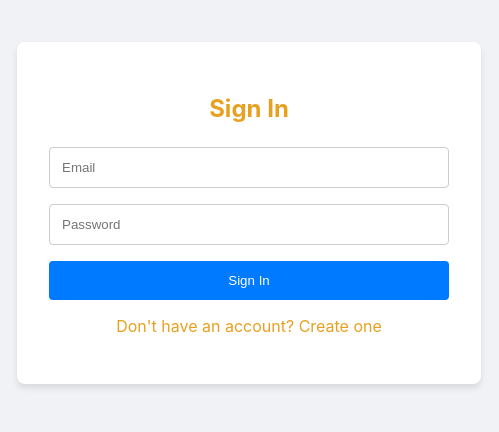
Test: Login Component › shows error message on Sign Up failure
This screenshot has width=499, height=432.
Click the button with test id "switch-to-signup" at (249, 326), box [116, 316, 382, 336]
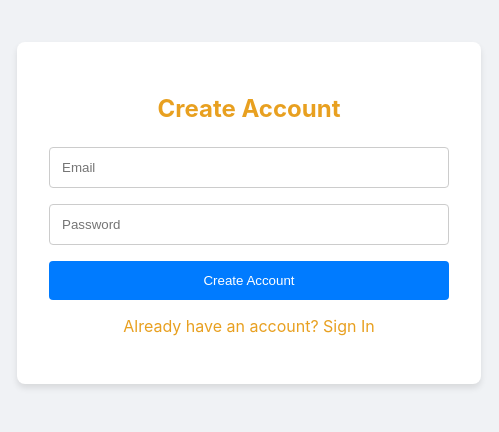
Type "new@example.com" into the field labelled "Email" at (249, 168), box [49, 147, 449, 188]
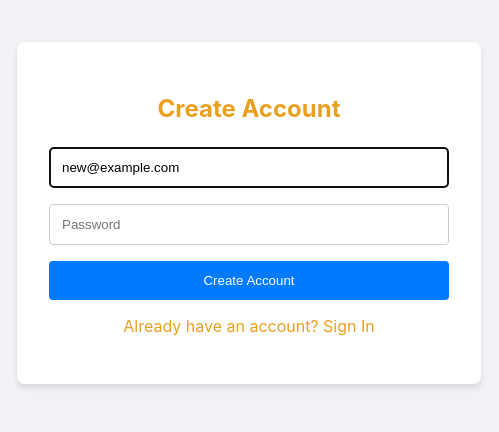
Type "newpassword" into the password field labelled "Password" at (249, 224), box [49, 204, 449, 245]
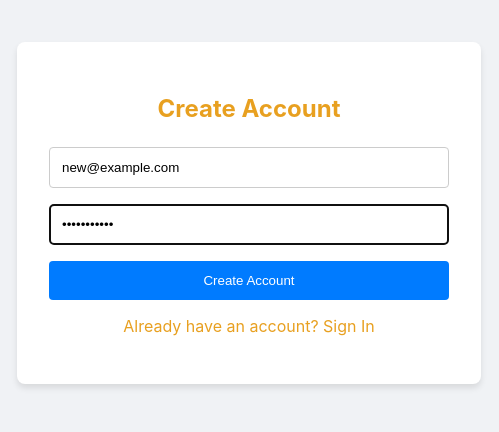
Submit the form with test id "signup-form", box [49, 74, 449, 352]
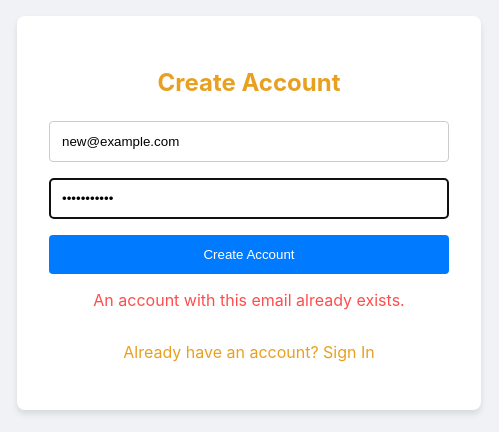
Now the text "An account with this email already exists." is shown, box [93, 290, 405, 310]
